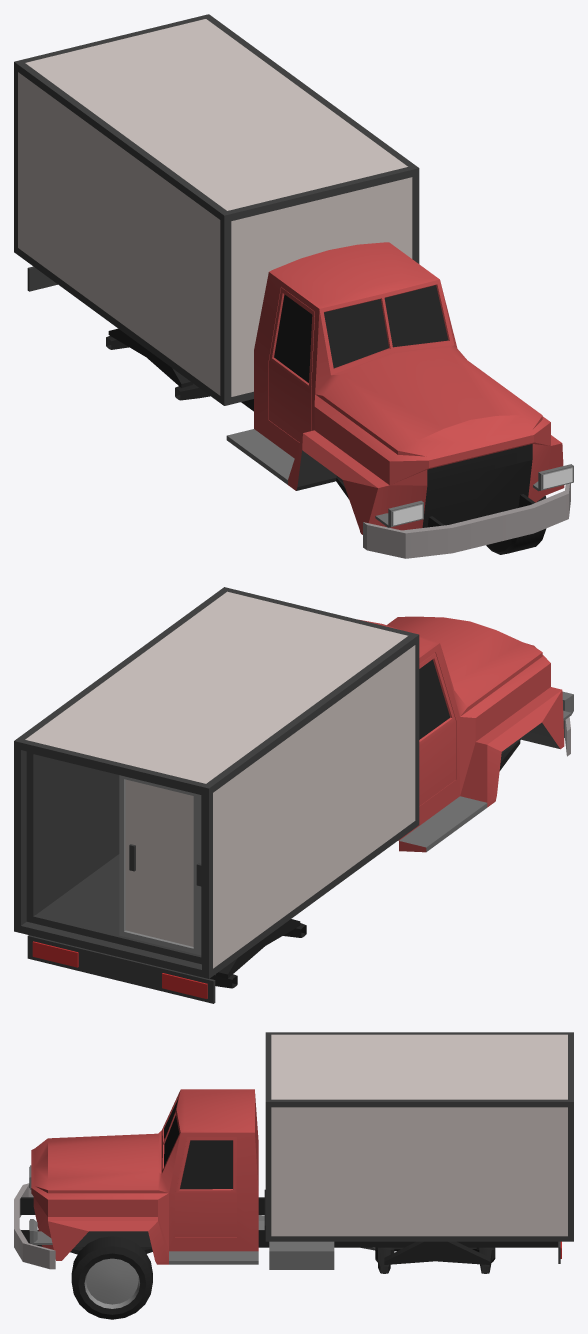
The model's file is Truck 1.fbx.
The picture shows the model from 3 angles, top to bottom: view 1: azimuth 30°, elevation 25°; view 2: azimuth 150°, elevation 25°; view 3: azimuth 270°, elevation 25°; orthographic projection. The views are drawn at different scales.
Parts seen in each view (by area): view 1: Truck Body, Wheel; view 2: Truck Body, Truck Door; view 3: Truck Body, Wheel.
Part boxes in pixels (box(x1,y1,x2,y2)): Truck Body: box(14, 14, 573, 558); Wheel: box(486, 495, 546, 554); Truck Body: box(14, 587, 573, 1003); Truck Door: box(119, 775, 201, 955); Truck Body: box(14, 1032, 573, 1273); Wheel: box(71, 1236, 152, 1319).
Bounding box in the file's own units: 294 × 412 × 954.
